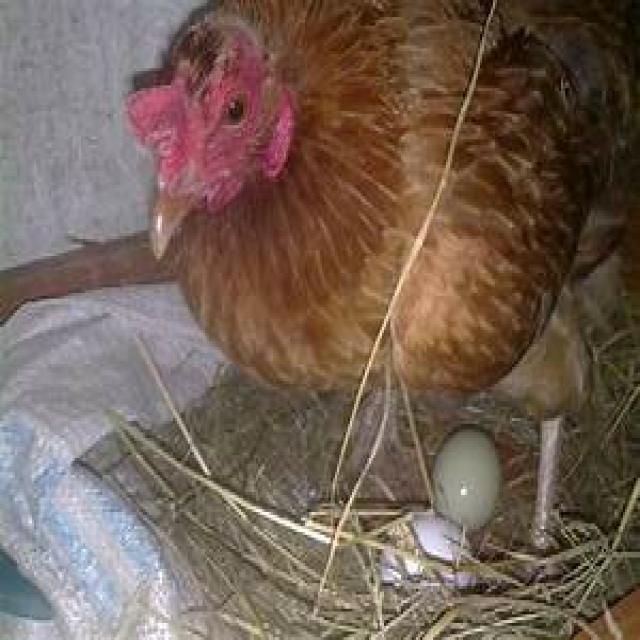hen: (124, 0, 640, 572)
